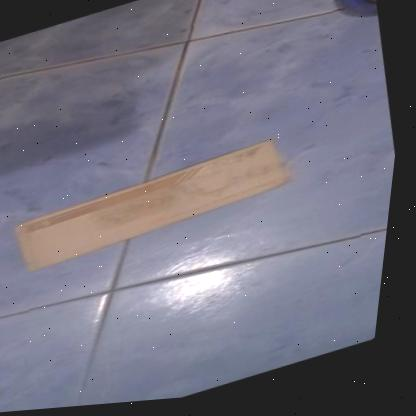five-back-vef: (11, 139, 296, 278)
